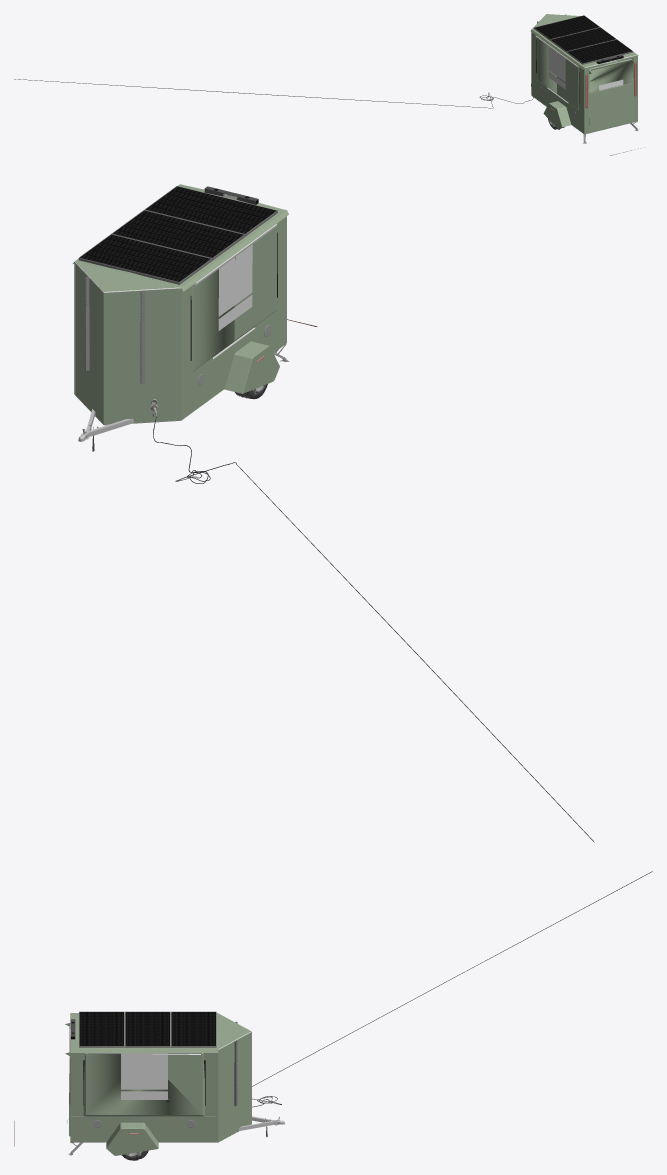
File: trailer-transformed.glb
The picture shows the model from 3 angles, top to bottom: view 1: azimuth 30°, elevation 25°; view 2: azimuth 150°, elevation 25°; view 3: azimuth 270°, elevation 25°; orthographic projection. The views are drawn at different scales.
Parts seen in each view (by area): view 1: walktop.005, walktop.050, walktop.018, walktop.069, walktop.068, walktop.022, walktop.045, walktop.003; view 2: walktop.005, walktop.050, walktop.018, walktop.045, walktop.002; view 3: walktop.005, walktop.019, walktop.050, walktop.045, walktop.022.
Boxes of the visible parts, <box> form: walktop.005: <box>530,14,638,134</box>; walktop.050: <box>534,15,632,63</box>; walktop.018: <box>536,37,579,109</box>; walktop.069: <box>589,82,633,131</box>; walktop.068: <box>588,58,633,92</box>; walktop.022: <box>14,79,533,108</box>; walktop.045: <box>533,15,633,64</box>; walktop.003: <box>532,19,637,132</box>; walktop.005: <box>73,184,288,425</box>; walktop.050: <box>80,186,276,281</box>; walktop.018: <box>191,226,277,371</box>; walktop.045: <box>78,186,277,284</box>; walktop.002: <box>84,277,289,394</box>; walktop.005: <box>65,1013,251,1155</box>; walktop.019: <box>83,1053,204,1116</box>; walktop.050: <box>79,1012,215,1045</box>; walktop.045: <box>79,1011,216,1047</box>; walktop.022: <box>252,871,652,1107</box>.
Size of the model in its own units: 34.35 by 6.03 by 31.98.
33 materials, 3 textured.
